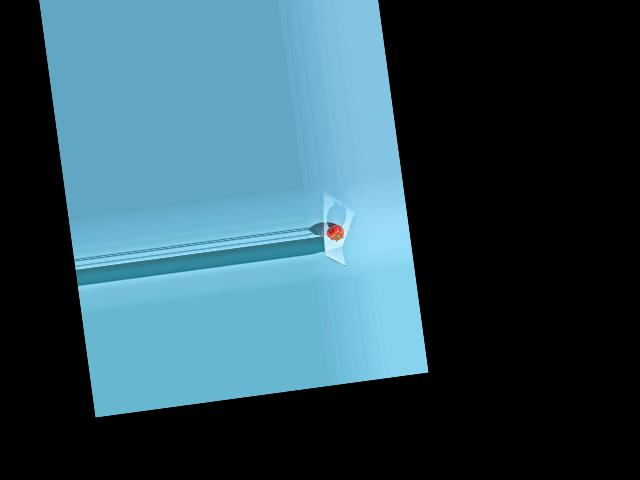tomato: (325, 223, 344, 241)
